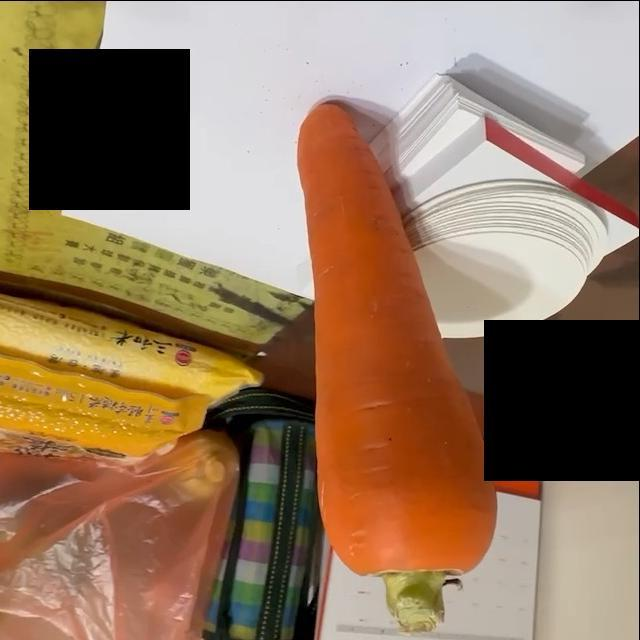carrot: (297, 100, 503, 636)
